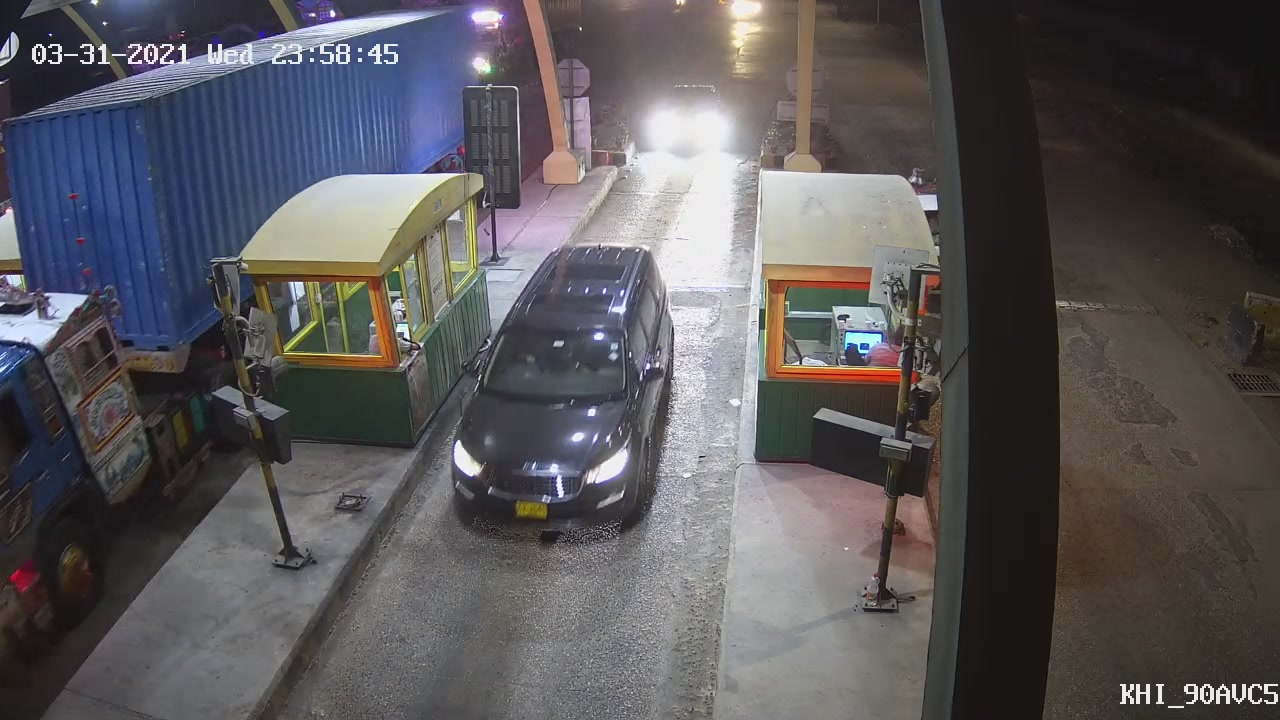F1: (436, 236, 684, 546)
